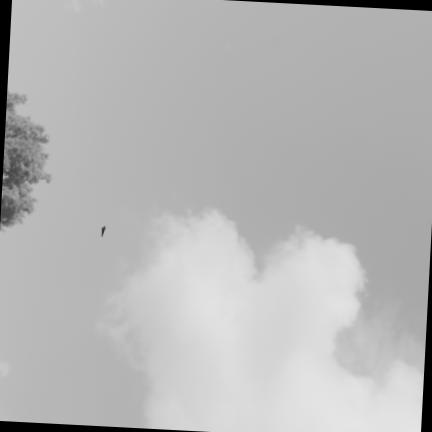Shahed: (101, 226, 105, 236)
